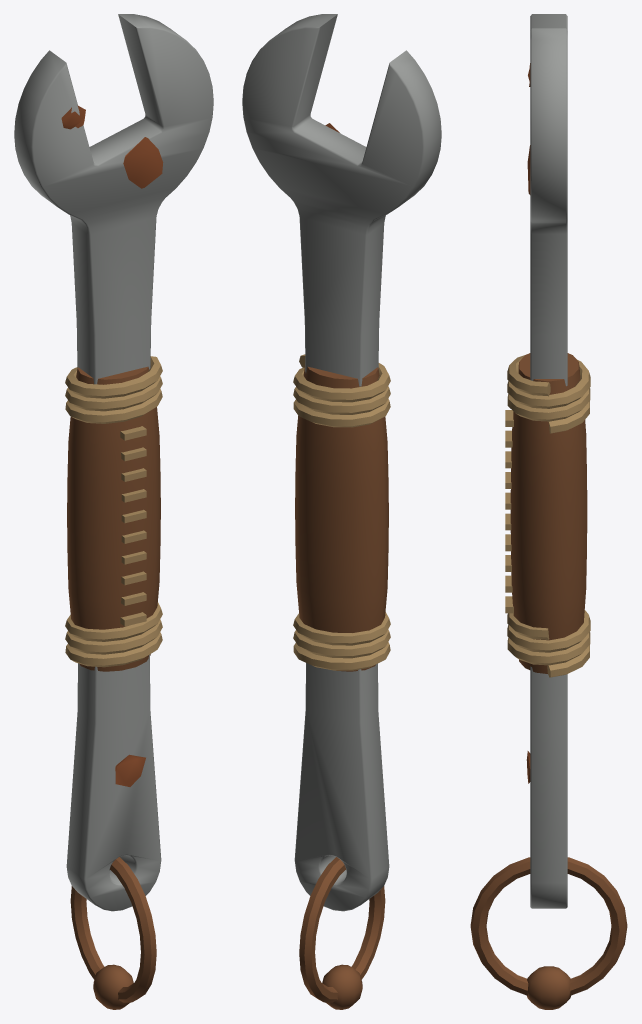
Rendered from tool_wrench_open.fbx.
3 renders of one model, left to right at view 1: azimuth 30°, elevation 25°; view 2: azimuth 150°, elevation 25°; view 3: azimuth 270°, elevation 25°, orthographic.
Visible parts, largest first — view 1: Tool_Wrench_Open_Body, Tool_Wrench_Open_Grip, Tool_Wrench_Open_Lashing, Tool_Wrench_Open_Thong, Tool_Wrench_Open_Rust; view 2: Tool_Wrench_Open_Body, Tool_Wrench_Open_Grip, Tool_Wrench_Open_Lashing, Tool_Wrench_Open_Thong; view 3: Tool_Wrench_Open_Body, Tool_Wrench_Open_Grip, Tool_Wrench_Open_Lashing, Tool_Wrench_Open_Thong.
Boxes of the visible parts, x1=… form: Tool_Wrench_Open_Body: x1=14, y1=14, x2=213, y2=911; Tool_Wrench_Open_Grip: x1=67, y1=366, x2=160, y2=671; Tool_Wrench_Open_Lashing: x1=65, y1=356, x2=162, y2=667; Tool_Wrench_Open_Thong: x1=70, y1=857, x2=156, y2=1009; Tool_Wrench_Open_Rust: x1=61, y1=105, x2=163, y2=786; Tool_Wrench_Open_Body: x1=242, y1=14, x2=441, y2=911; Tool_Wrench_Open_Grip: x1=295, y1=366, x2=388, y2=671; Tool_Wrench_Open_Lashing: x1=293, y1=354, x2=390, y2=670; Tool_Wrench_Open_Thong: x1=299, y1=857, x2=385, y2=1009; Tool_Wrench_Open_Body: x1=530, y1=14, x2=567, y2=908; Tool_Wrench_Open_Grip: x1=510, y1=353, x2=587, y2=673; Tool_Wrench_Open_Lashing: x1=505, y1=355, x2=590, y2=677; Tool_Wrench_Open_Thong: x1=470, y1=857, x2=627, y2=1009.
Bounding box in the file's own units: 10.8 × 55.6 × 8.02.
